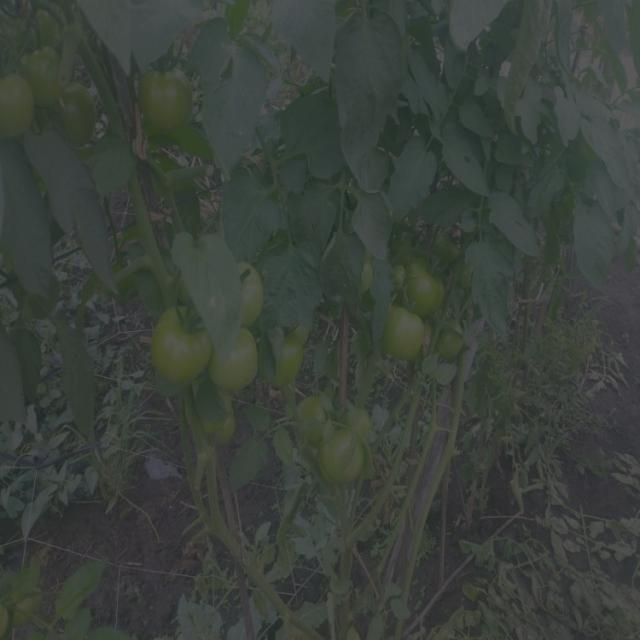tomato: (136, 60, 195, 136), (310, 413, 367, 485), (157, 299, 204, 376), (211, 328, 261, 385), (407, 252, 452, 315), (383, 307, 430, 362), (20, 49, 66, 100), (1, 68, 34, 139), (300, 379, 333, 442), (58, 86, 95, 142), (435, 319, 477, 363), (238, 260, 266, 323), (274, 335, 304, 391)
